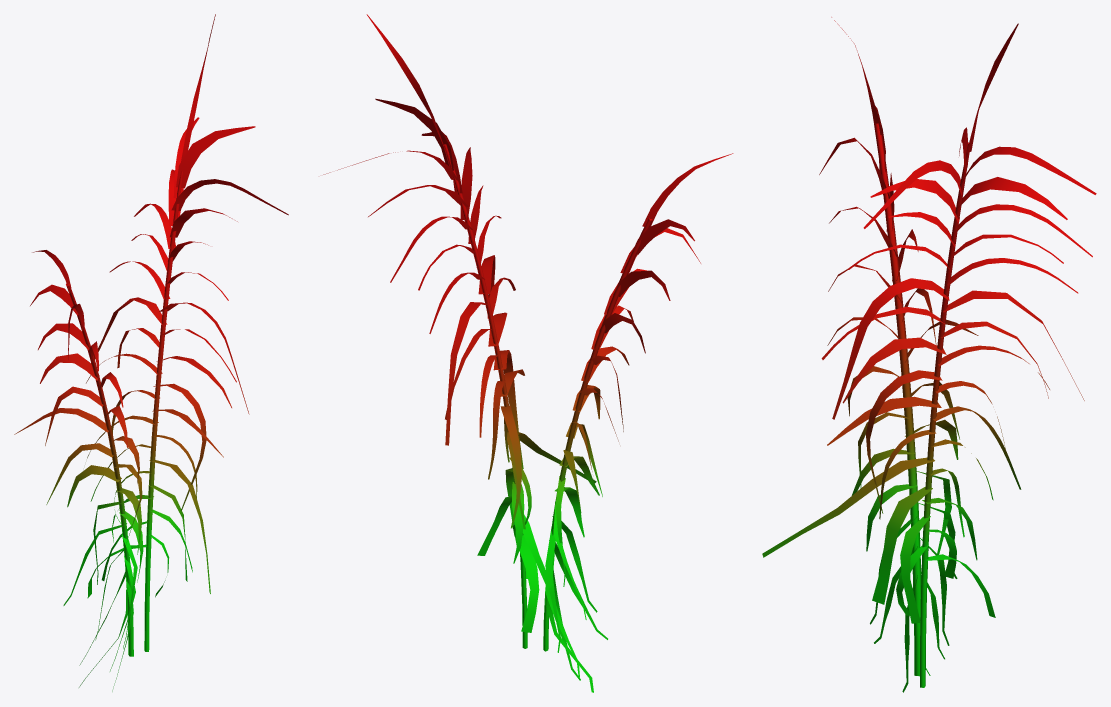
Rendered from Giant Reed_LOD1_Var3_sjllX.fbx.
3 renders of one model, left to right at view 1: azimuth 30°, elevation 25°; view 2: azimuth 150°, elevation 25°; view 3: azimuth 270°, elevation 25°, orthographic. The views are drawn at different scales.
Parts seen in each view (by area): view 1: _6527_Var3_LOD1; view 2: _6527_Var3_LOD1; view 3: _6527_Var3_LOD1.
Boxes of the visible parts, <box> form: _6527_Var3_LOD1: <box>14,14,288,691</box>; _6527_Var3_LOD1: <box>323,14,733,692</box>; _6527_Var3_LOD1: <box>762,17,1096,692</box>.
Size of the model in its own units: 99.13 by 209 by 83.13.
